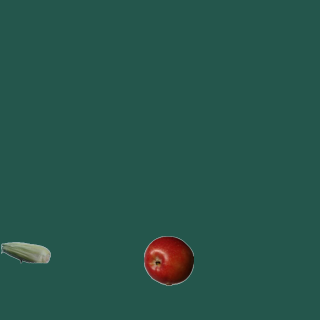Apple Braeburn: (143, 235, 193, 285)
Corn Husk: (0, 227, 50, 277)
